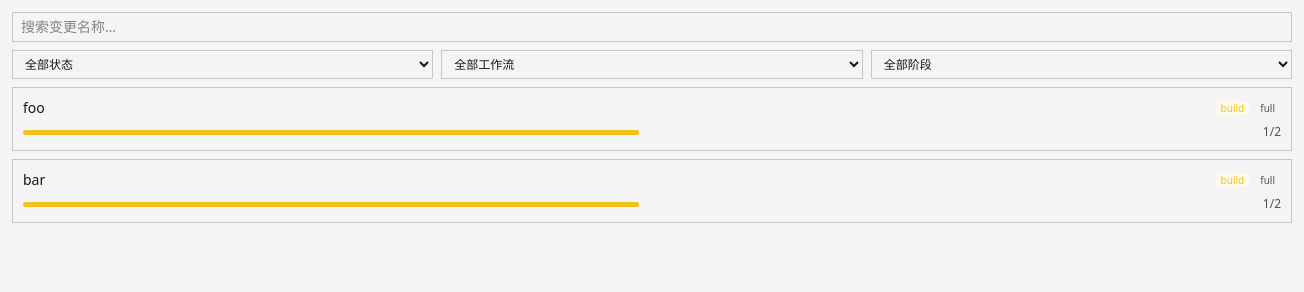
Test: ChangeExplorer › shows a helpful empty-state with a working "清除筛选" button when filters produce an empty result
The width and height of the screenshot is (1304, 292).
Type "nonexistent" into the field with placeholder "搜索变更名称…" at (652, 27), box [12,12,1292,42]
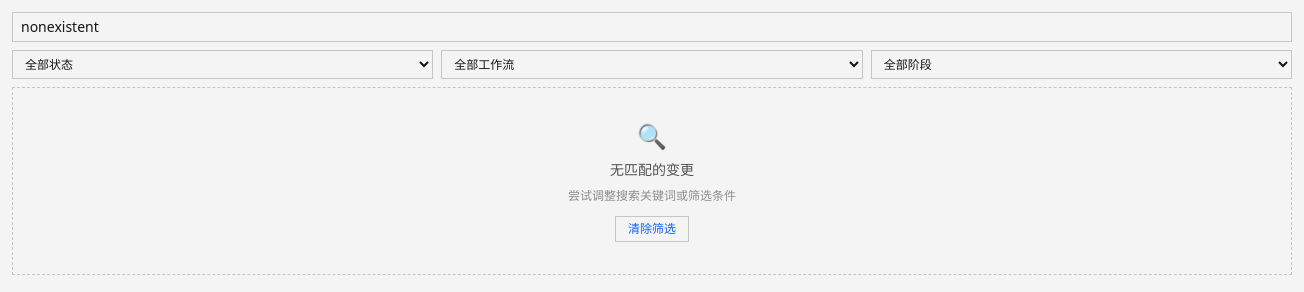
Result: the text "无匹配的变更" is shown at [610,160,694,180]
Click the button "清除筛选" at (652, 229), box [615,216,689,242]
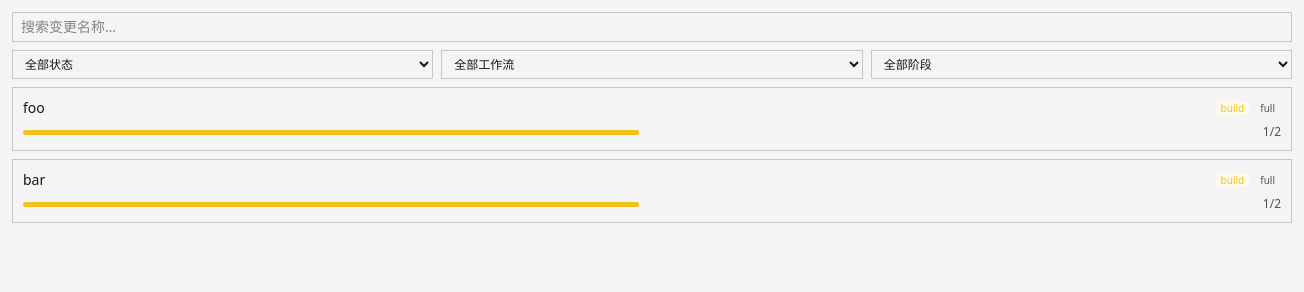
Result: the text "foo" is shown at [23,98,45,118]
Result: the text "bar" is shown at [23,170,45,190]
Result: the field with placeholder "搜索变更名称…" is empty at [12,12,1292,42]
